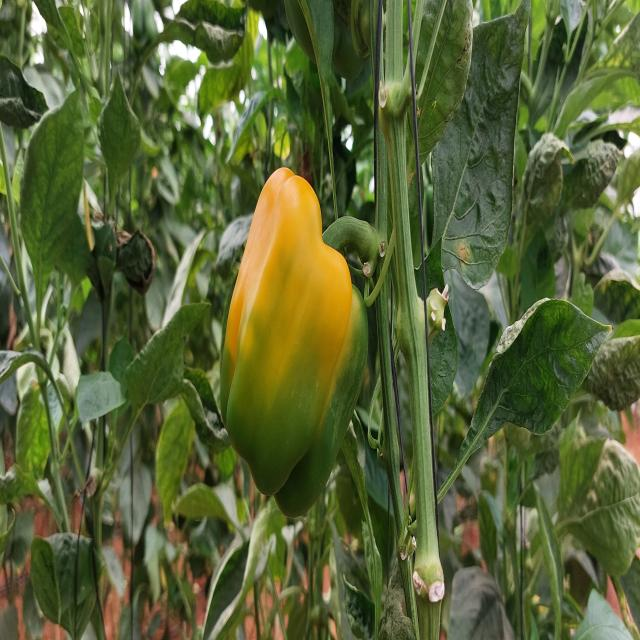GreenishYellow--Can-be-Harvested: (215, 158, 383, 524)
